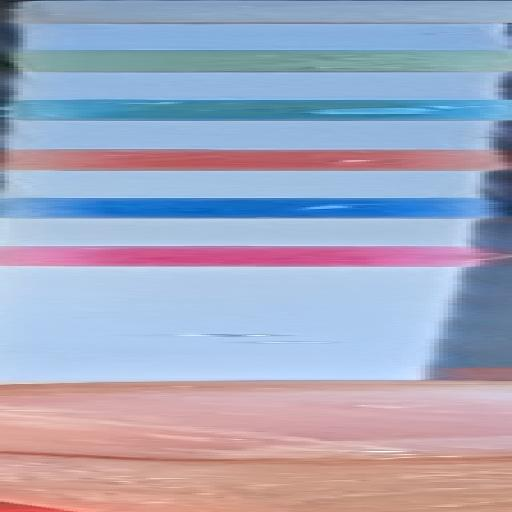pads: (0, 147, 512, 172), (0, 0, 512, 24), (0, 98, 512, 122), (13, 48, 512, 72), (0, 196, 512, 219), (30, 244, 512, 268)
